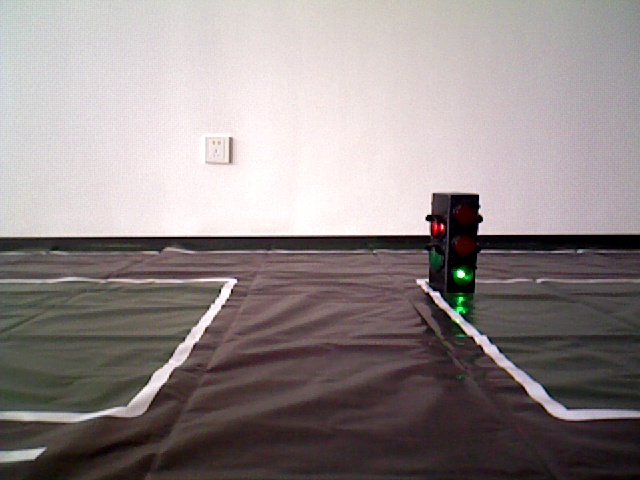green: (431, 193, 477, 288)
